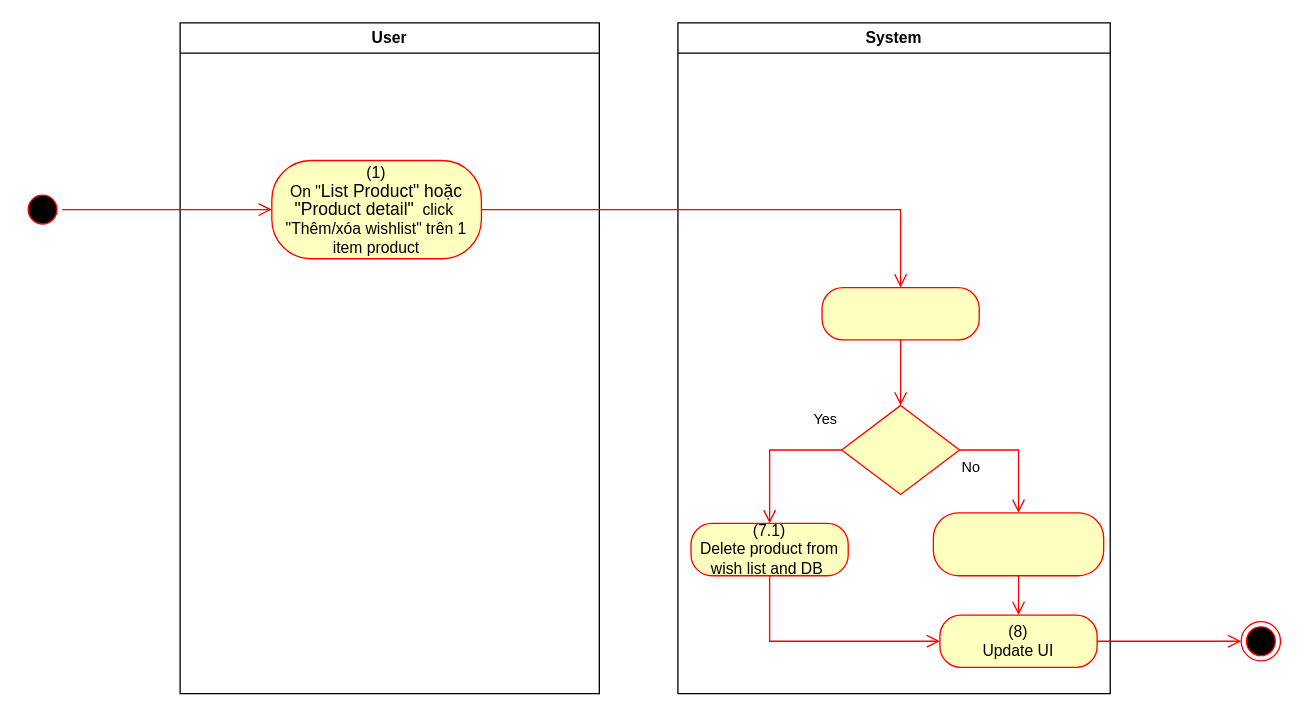
Some shapes in this 1303 by 717 pixel diagram are drawn without their labels. Each missing label, with the box of its shape:
(7) Check is in wish list: (821, 286, 979, 340)
(7.2) Push new product to wish list in DB: (932, 512, 1104, 576)
